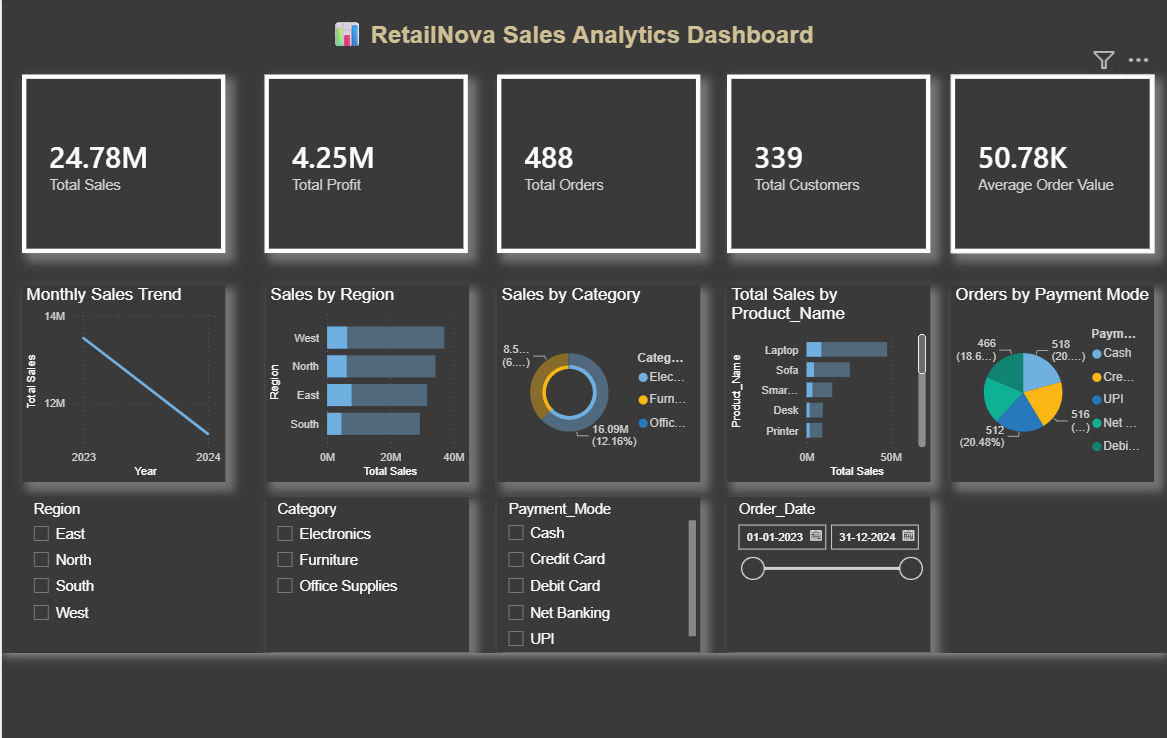

The page's visual inventory and layout, read from the dashboard file:
{"tool":"powerbi","page":{"name":"Page 1","canvas":[1280,720],"ordinal":0},"visuals":[{"type":"cardVisual","fields":{"Data":["RetailNova_Sales_Dataset.Total Sales"]},"box":[22.2,85.2,223.3,196],"z":0},{"type":"cardVisual","fields":{"Data":["RetailNova_Sales_Dataset.Total Orders"]},"box":[543.8,85.2,223.3,196],"z":1000},{"type":"cardVisual","fields":{"Data":["RetailNova_Sales_Dataset.Total Customers"]},"box":[796,85.2,223.3,196],"z":2000},{"type":"cardVisual","fields":{"Data":["RetailNova_Sales_Dataset.Average Order Value"]},"box":[1041.5,85.2,223.3,196],"z":3000},{"type":"cardVisual","fields":{"Data":["RetailNova_Sales_Dataset.Total Profit"]},"box":[288.1,85.2,223.3,196],"z":4000},{"type":"lineChart","title":"Monthly Sales Trend","fields":{"Category":["RetailNova_Sales_Dataset.Order_Date.Variation.Date Hierarchy.Year","RetailNova_Sales_Dataset.Order_Date.Variation.Date Hierarchy.Quarter","RetailNova_Sales_Dataset.Order_Date.Variation.Date Hierarchy.Month","RetailNova_Sales_Dataset.Order_Date.Variation.Date Hierarchy.Day"],"Y":["RetailNova_Sales_Dataset.Total Sales"]},"box":[22.2,315.3,223.3,216.5],"z":5000},{"type":"clusteredBarChart","title":"Sales by Region","fields":{"Category":["RetailNova_Sales_Dataset.Region"],"Y":["RetailNova_Sales_Dataset.Total Sales"]},"box":[289.8,315.3,223.3,216.5],"z":6000},{"type":"donutChart","title":"Sales by Category","fields":{"Category":["RetailNova_Sales_Dataset.Category"],"Y":["RetailNova_Sales_Dataset.Total Sales"]},"box":[543.8,315.3,223.3,216.5],"z":7000},{"type":"clusteredBarChart","fields":{"Category":["RetailNova_Sales_Dataset.Product_Name"],"Y":["RetailNova_Sales_Dataset.Total Sales"]},"box":[796,315.3,223.3,216.5],"z":8000},{"type":"pieChart","title":"Orders by Payment Mode","fields":{"Category":["RetailNova_Sales_Dataset.Payment_Mode"],"Y":["CountNonNull(RetailNova_Sales_Dataset.Order_ID)"]},"box":[1041.5,315.3,223.3,216.5],"z":9000},{"type":"slicer","fields":{"Values":["RetailNova_Sales_Dataset.Region"]},"box":[22.2,548.9,223.3,170.5],"z":10000},{"type":"slicer","fields":{"Values":["RetailNova_Sales_Dataset.Category"]},"box":[290,549,223,170],"z":11000},{"type":"slicer","fields":{"Values":["RetailNova_Sales_Dataset.Payment_Mode"]},"box":[544,549,223,170],"z":12000},{"type":"slicer","fields":{"Values":["RetailNova_Sales_Dataset.Order_Date"]},"box":[796,549,223,170],"z":13000},{"type":"textbox","box":[97.2,17,1056.8,49.4],"z":14000}]}

Visuals, with their boxes in screenshot pixels (x1, y1, x2, y2):
cardVisual - RetailNova_Sales_Dataset.Total Sales: 26,74,227,250
cardVisual - RetailNova_Sales_Dataset.Total Orders: 495,74,696,250
cardVisual - RetailNova_Sales_Dataset.Total Customers: 722,74,923,250
cardVisual - RetailNova_Sales_Dataset.Average Order Value: 943,74,1143,250
cardVisual - RetailNova_Sales_Dataset.Total Profit: 265,74,466,250
"Monthly Sales Trend" lineChart: 26,280,227,475
"Sales by Region" clusteredBarChart: 267,280,467,475
"Sales by Category" donutChart: 495,280,696,475
clusteredBarChart - RetailNova_Sales_Dataset.Product_Name x RetailNova_Sales_Dataset.Total Sales: 722,280,923,475
"Orders by Payment Mode" pieChart: 943,280,1143,475
slicer - RetailNova_Sales_Dataset.Region: 26,490,227,644
slicer - RetailNova_Sales_Dataset.Category: 267,491,467,643
slicer - RetailNova_Sales_Dataset.Payment_Mode: 495,491,696,643
slicer - RetailNova_Sales_Dataset.Order_Date: 722,491,922,643
textbox: 93,12,1044,57
